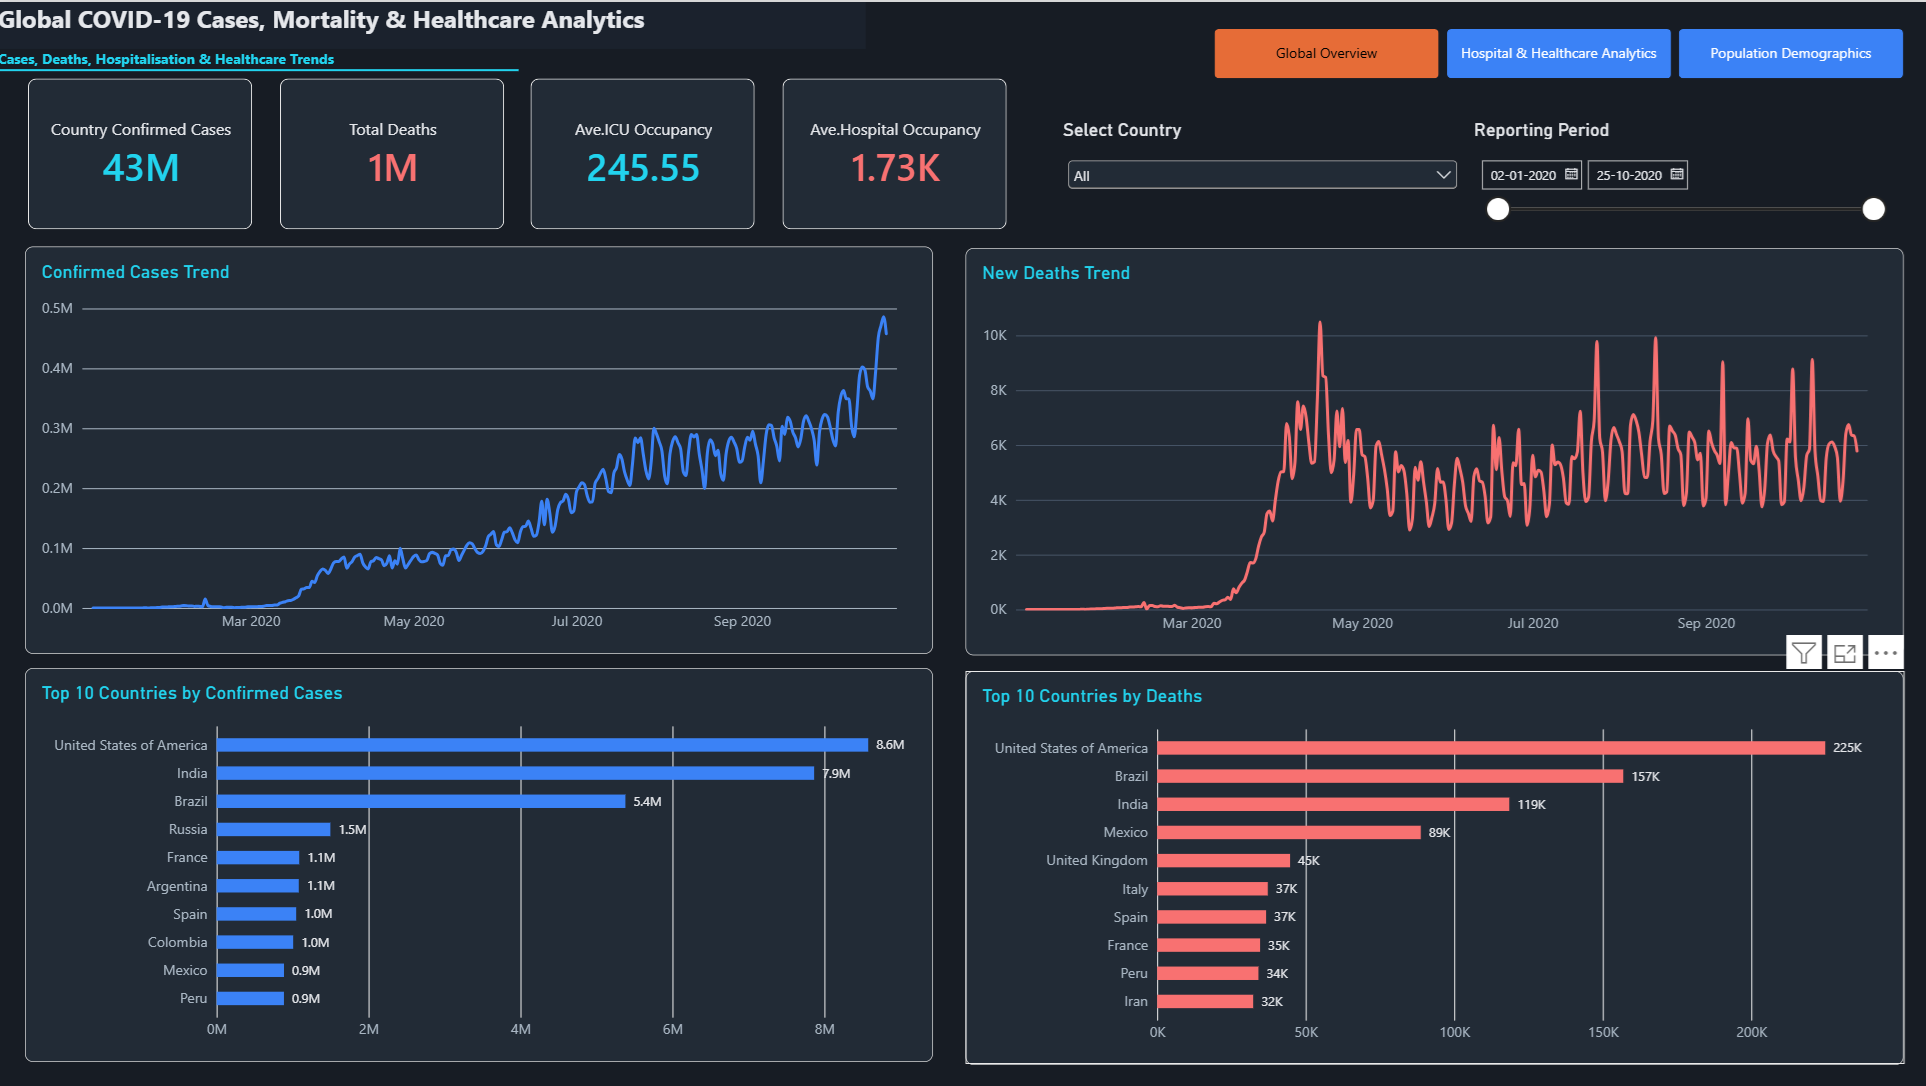

The dashboard page shown, as its layout file describes it:
{"tool":"powerbi","page":{"name":"Global Overview","canvas":[1920,1080],"ordinal":0},"visuals":[{"type":"textbox","box":[0,0,863.3,46.7],"z":0},{"type":"textbox","box":[0,46.4,339.1,20.9],"z":1000},{"type":"shape","box":[0,53.6,518.2,28.2],"z":2000},{"type":"cardVisual","fields":{"Data":["DAX_Measures.Country Confirmed Cases"]},"box":[29.4,76.7,223.3,150],"z":3000},{"type":"cardVisual","fields":{"Data":["DAX_Measures.Country New Deaths"]},"box":[280,76.7,223.3,150],"z":4000},{"type":"cardVisual","fields":{"Data":["DAX_Measures.Average ICU Occupancy"]},"box":[530.6,76.7,223.3,150],"z":5000},{"type":"cardVisual","fields":{"Data":["DAX_Measures.Average Hospital Occupancy"]},"box":[781.1,76.7,223.3,150],"z":6000},{"type":"lineChart","title":"Confirmed Cases Trend","fields":{"Category":["analytics dim_date.full_date"],"Y":["DAX_Measures.Country Confirmed Cases"]},"box":[26.7,243.3,903.3,405],"z":7000},{"type":"lineChart","title":"New Deaths Trend","fields":{"Category":["analytics dim_date.full_date"],"Y":["DAX_Measures.Country New Deaths"]},"box":[963.3,245,933.3,405],"z":8000},{"type":"clusteredBarChart","title":"Top 10 Countries by Confirmed Cases","fields":{"Category":["analytics dim_country.country_name"],"Y":["DAX_Measures.Country Confirmed Cases"]},"box":[26.7,663.3,903.3,391.7],"z":9000},{"type":"clusteredBarChart","title":"Top 10 Countries by Deaths","fields":{"Category":["analytics dim_country.country_name"],"Y":["DAX_Measures.Country New Deaths"]},"box":[963.3,665,933.3,391.7],"z":10000},{"type":"slicer","title":"Select Country","fields":{"Values":["analytics dim_country.country_name"]},"box":[1060,116.7,396.7,101.7],"z":11000},{"type":"slicer","title":"Reporting Period","fields":{"Values":["analytics dim_date.full_date"]},"box":[1468.3,116.7,413.3,101.7],"z":12000},{"type":"pageNavigator","box":[1209.9,26.5,686.5,50],"z":13000}]}

Visuals, with their boxes in screenshot pixels (x1, y1, x2, y2), scaled from the page's 1920x1080 canvas onto the 1926x1086 screenshot:
textbox: left=0, top=0, right=866, bottom=47
textbox: left=0, top=47, right=340, bottom=68
shape: left=0, top=54, right=520, bottom=82
cardVisual - DAX_Measures.Country Confirmed Cases: left=29, top=77, right=253, bottom=228
cardVisual - DAX_Measures.Country New Deaths: left=281, top=77, right=505, bottom=228
cardVisual - DAX_Measures.Average ICU Occupancy: left=532, top=77, right=756, bottom=228
cardVisual - DAX_Measures.Average Hospital Occupancy: left=784, top=77, right=1008, bottom=228
"Confirmed Cases Trend" lineChart: left=27, top=245, right=933, bottom=652
"New Deaths Trend" lineChart: left=966, top=246, right=1903, bottom=654
"Top 10 Countries by Confirmed Cases" clusteredBarChart: left=27, top=667, right=933, bottom=1061
"Top 10 Countries by Deaths" clusteredBarChart: left=966, top=669, right=1903, bottom=1063
"Select Country" slicer: left=1063, top=117, right=1461, bottom=220
"Reporting Period" slicer: left=1473, top=117, right=1887, bottom=220
pageNavigator: left=1214, top=27, right=1902, bottom=77
